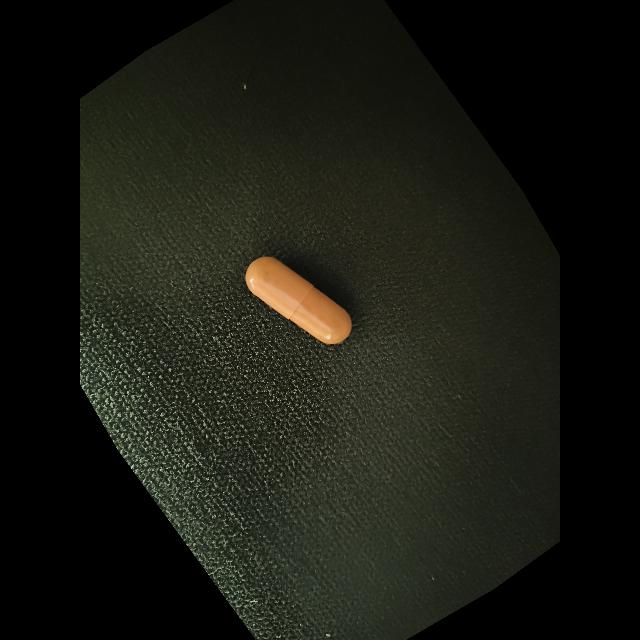Intact Capsule: (245, 256, 352, 344)
